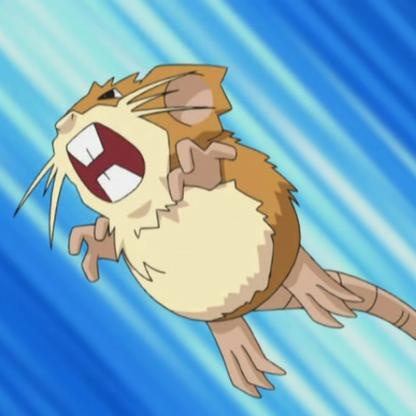Raticate: (40, 54, 416, 411)
